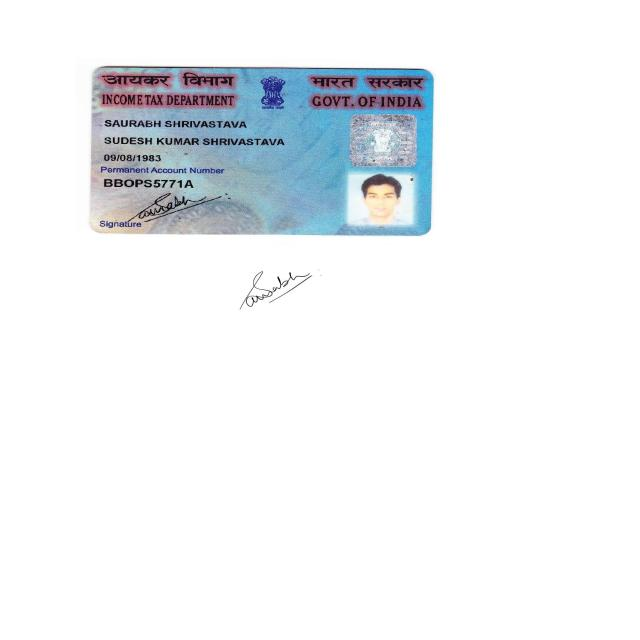pan_card: (87, 64, 433, 239)
